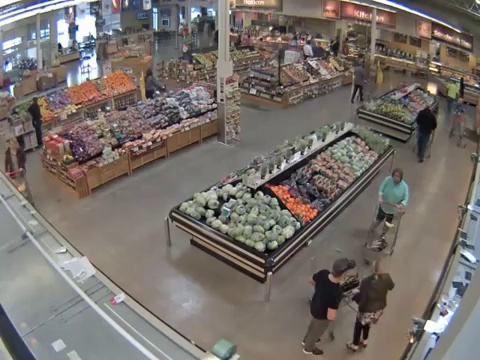face: (393, 169, 402, 182)
